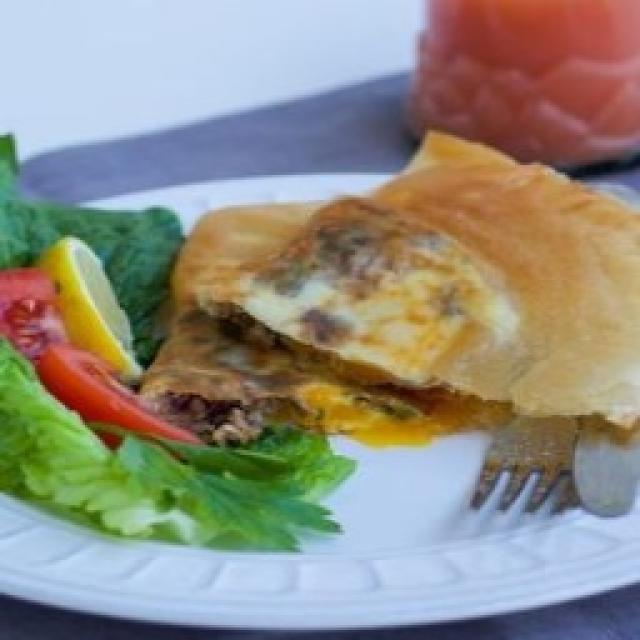Brik: (175, 130, 640, 421)
